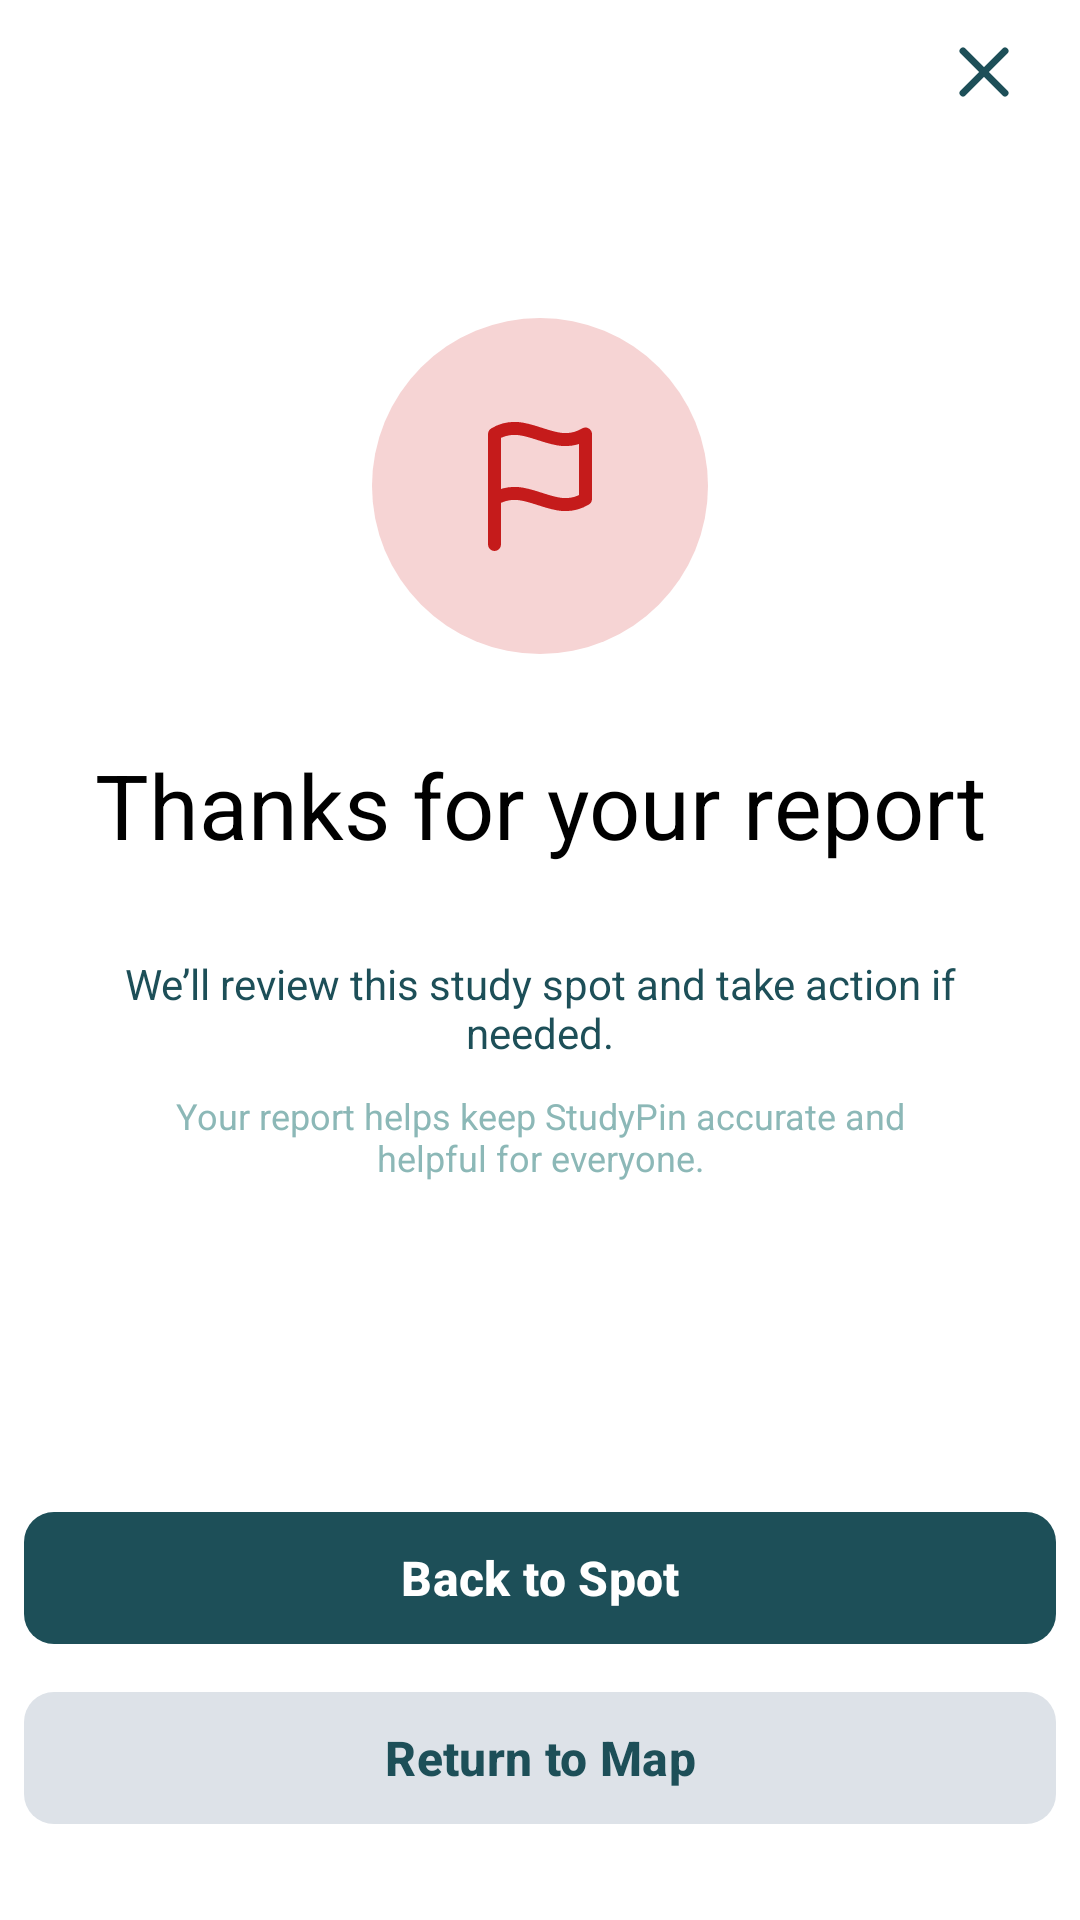

Named icons in this screenshot (1080×1920) and their bounding boxes, (x1, y1, x2, y2):
Close confirmation: (959, 47, 1009, 97)
Report submitted: (488, 422, 592, 551)
